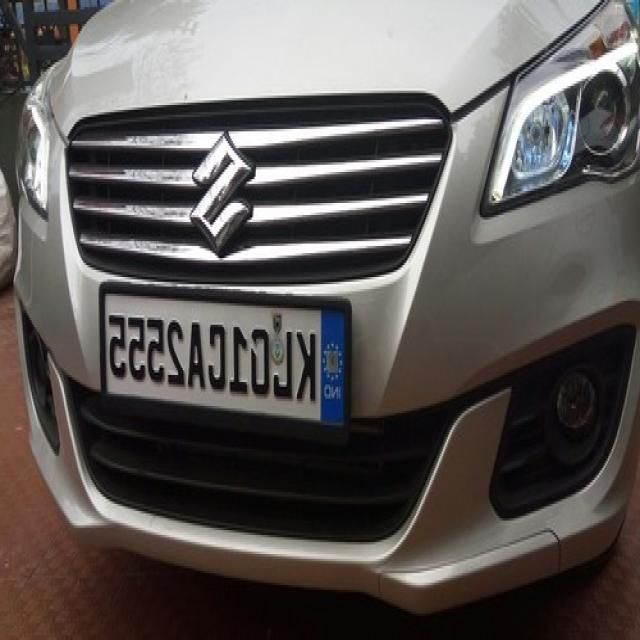number-plate: (101, 291, 346, 407)
